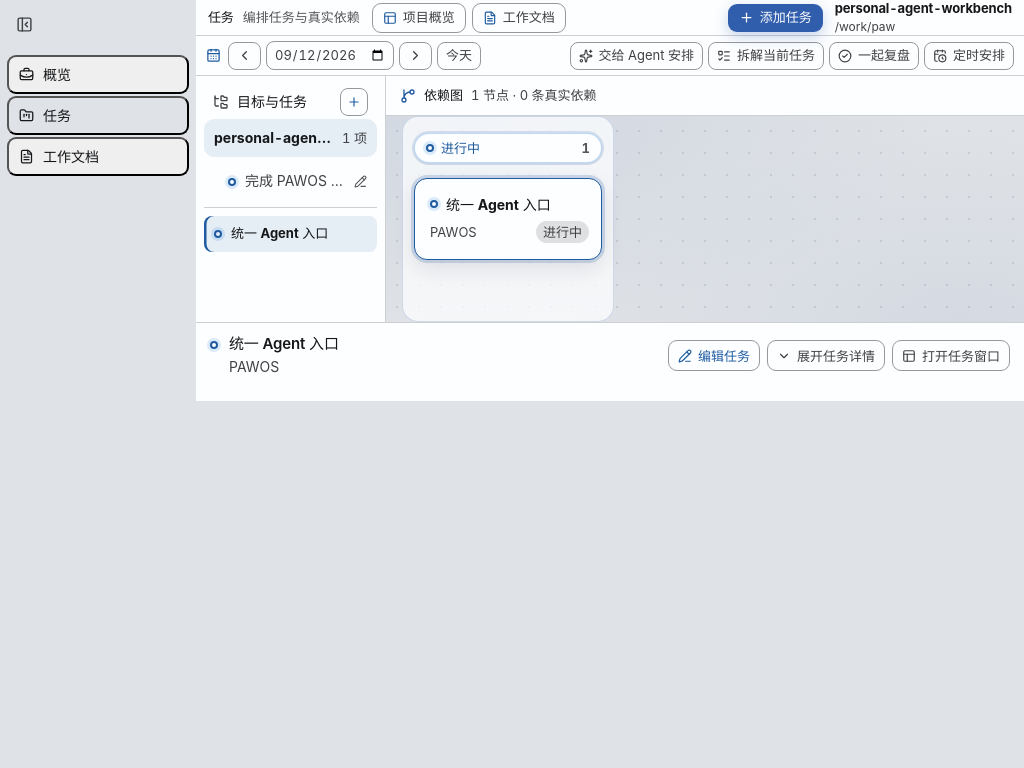
Scenario: PAWOS native Apps › keeps day navigation, Agent handoff, and real wake schedules in the migrated Planning surface
The image size is (1024, 768).
What coordinates should you click on to do the following:
click the button "交给 Agent 安排"
I would click on:
 (636, 56)
Its box is [570,42,703,70].
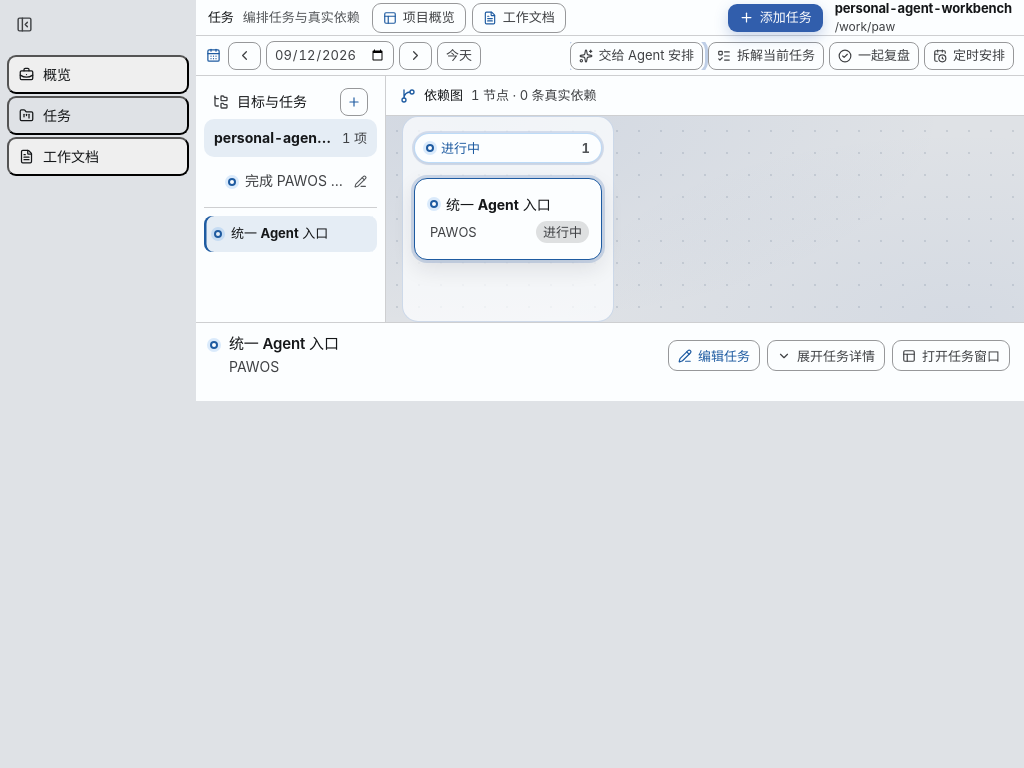
What coordinates should you click on to do the following:
click the button "定时安排"
I would click on:
 (969, 56)
Its box is [924,42,1014,70].
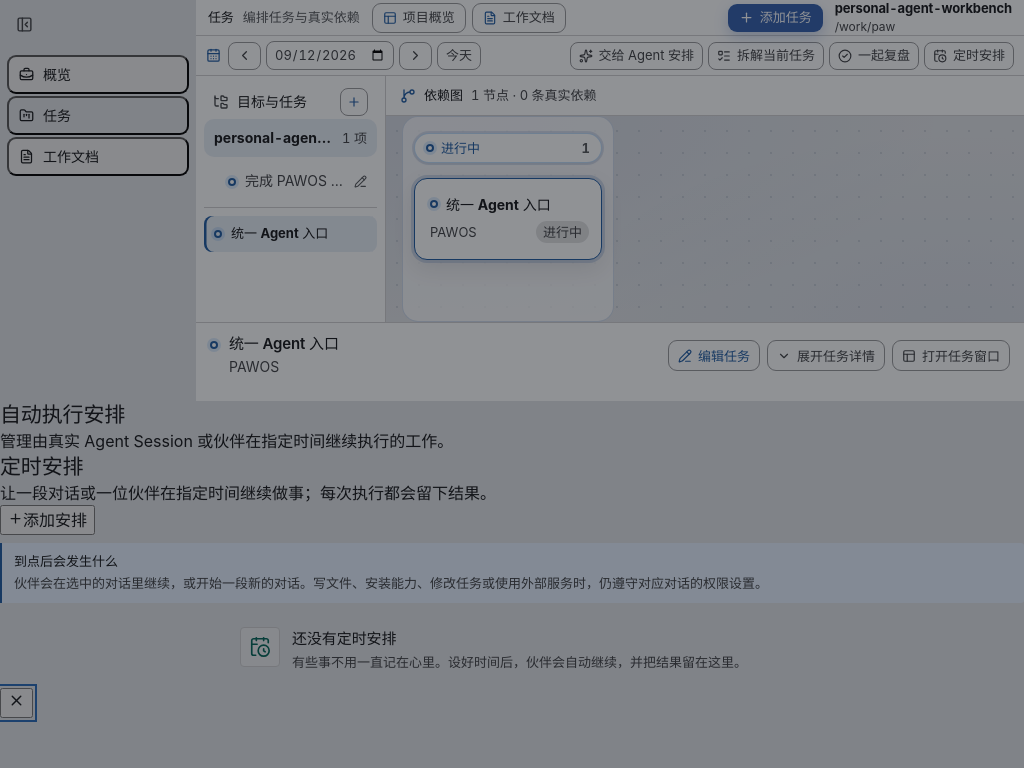
Expected: the heading "自动执行安排" is shown, [0,402,125,426]
Expected: the heading "还没有定时安排" is shown, [292,626,396,650]
